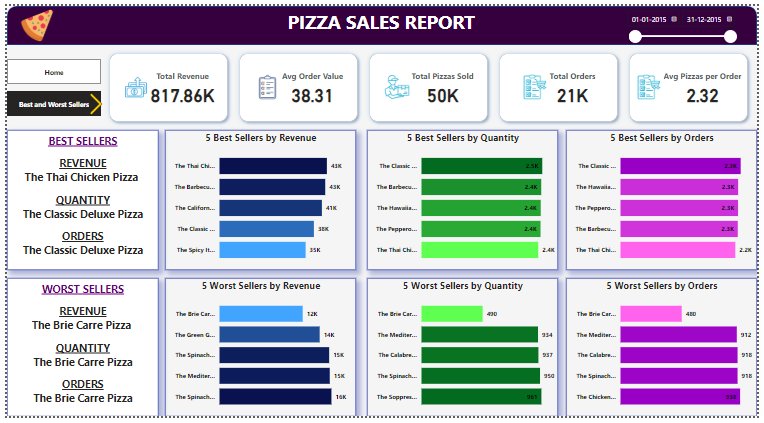

This screenshot's page, from the dashboard's own definition file:
{"tool":"powerbi","page":{"name":"Best and Worst Sellers","canvas":[1500,820],"ordinal":1},"visuals":[{"type":"cardVisual","fields":{"Data":["MeasureTable.Total Revenue","MeasureTable.Avg Order Value","MeasureTable.Total Pizzas Sold","MeasureTable.Total Orders","MeasureTable.Avg Pizzas per Order"]},"box":[188,78,1312,170],"z":0},{"type":"shape","box":[0,0,1500,78],"z":1000},{"type":"textbox","box":[556,0,386,78],"z":2000},{"type":"image","box":[22,0,76,78],"z":3000},{"type":"clusteredBarChart","title":"5 Best Sellers by Revenue","fields":{"Category":["pizza_sales.pizza_name"],"Y":["MeasureTable.Total Revenue"]},"box":[316.7,248.3,381.7,280],"z":4000},{"type":"textbox","box":[0,248.3,303.3,280],"z":5000},{"type":"textbox","box":[0,543.3,303.3,276.7],"z":6000},{"type":"slicer","fields":{"Values":["pizza_sales.order_date"]},"box":[1228.3,0,240,78.3],"z":7000},{"type":"clusteredBarChart","title":"5 Worst Sellers by Revenue","fields":{"Category":["pizza_sales.pizza_name"],"Y":["MeasureTable.Total Revenue"]},"box":[316.7,543.3,381.7,276.7],"z":8000},{"type":"clusteredBarChart","title":"5 Best Sellers by Quantity","fields":{"Category":["pizza_sales.pizza_name"],"Y":["MeasureTable.Total Pizzas Sold"]},"box":[720,248.3,381.7,280],"z":9000},{"type":"clusteredBarChart","title":"5 Best Sellers by Orders","fields":{"Category":["pizza_sales.pizza_name"],"Y":["MeasureTable.Total Orders"]},"box":[1118.3,248.3,381.7,280],"z":10000},{"type":"clusteredBarChart","title":"5 Worst Sellers by Quantity","fields":{"Category":["pizza_sales.pizza_name"],"Y":["MeasureTable.Total Pizzas Sold"]},"box":[720,543.3,381.7,276.7],"z":11000},{"type":"clusteredBarChart","title":"5 Worst Sellers by Orders","fields":{"Category":["pizza_sales.pizza_name"],"Y":["MeasureTable.Total Orders"]},"box":[1118.3,543.3,381.7,276.7],"z":12000},{"type":"pageNavigator","box":[0,170,188.3,50],"z":12001},{"type":"pageNavigator","box":[0,105,188.3,50],"z":12002},{"type":"image","box":[151.7,163.3,51.7,63.3],"z":12003}]}

Visuals, with their boxes in screenshot pixels (x1, y1, x2, y2), scaled from the page's 1500x820 canvas onto the 764x423 screenshot:
cardVisual - MeasureTable.Total Revenue x MeasureTable.Avg Order Value: <region>96, 40, 763, 128</region>
shape: <region>0, 0, 763, 40</region>
textbox: <region>283, 0, 480, 40</region>
image: <region>11, 0, 50, 40</region>
"5 Best Sellers by Revenue" clusteredBarChart: <region>161, 128, 356, 273</region>
textbox: <region>0, 128, 154, 273</region>
textbox: <region>0, 280, 154, 422</region>
slicer - pizza_sales.order_date: <region>626, 0, 748, 40</region>
"5 Worst Sellers by Revenue" clusteredBarChart: <region>161, 280, 356, 422</region>
"5 Best Sellers by Quantity" clusteredBarChart: <region>367, 128, 561, 273</region>
"5 Best Sellers by Orders" clusteredBarChart: <region>570, 128, 763, 273</region>
"5 Worst Sellers by Quantity" clusteredBarChart: <region>367, 280, 561, 422</region>
"5 Worst Sellers by Orders" clusteredBarChart: <region>570, 280, 763, 422</region>
pageNavigator: <region>0, 88, 96, 113</region>
pageNavigator: <region>0, 54, 96, 80</region>
image: <region>77, 84, 104, 117</region>
